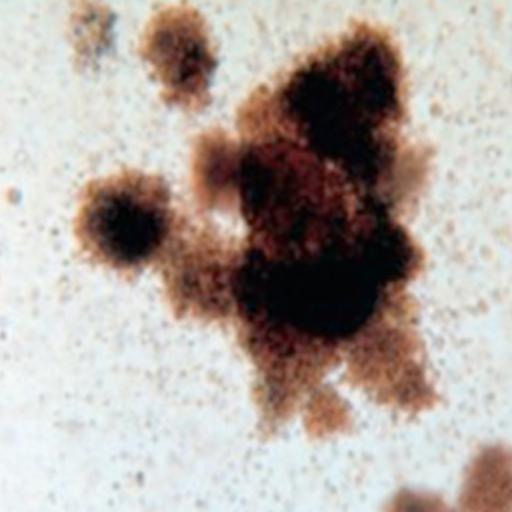CFU-GEMM: (181, 26, 431, 408), (75, 168, 170, 274), (138, 0, 219, 111)
